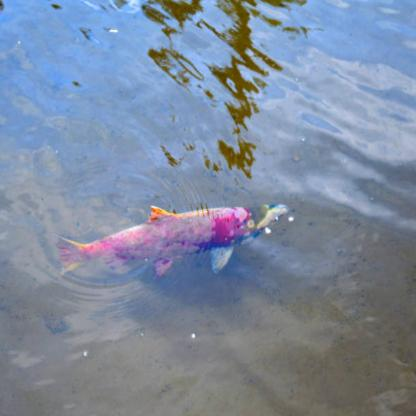sockeye: (61, 195, 289, 276)
